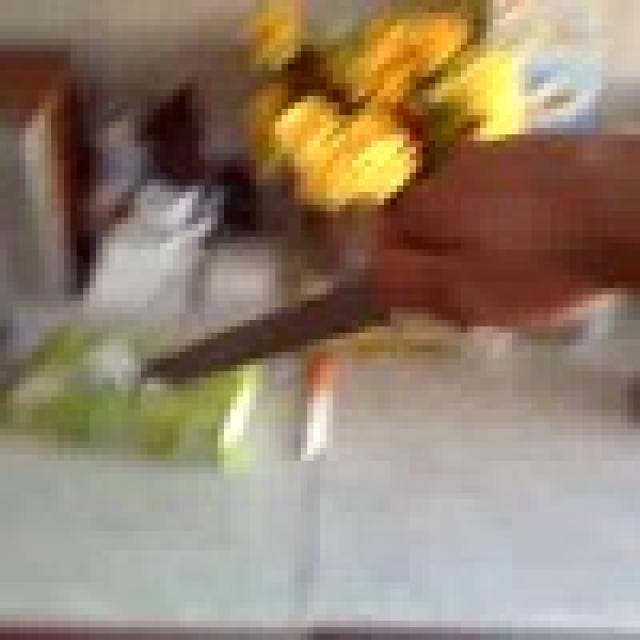knife: (141, 256, 404, 391)
